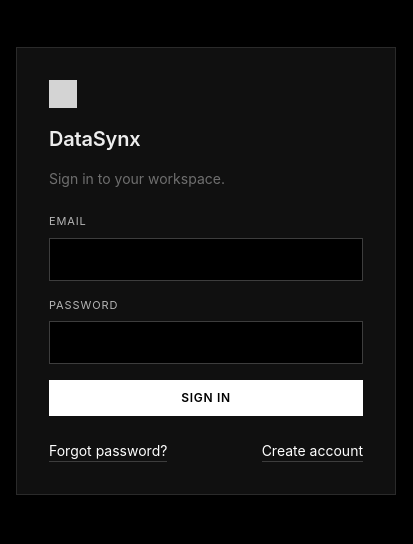
Test: LoginPage › shows the API error message when credentials are rejected
This screenshot has width=413, height=544.
Type "someone@example.com" into the field labelled "Email" at coordinates (206, 259), box [49,238,363,280]
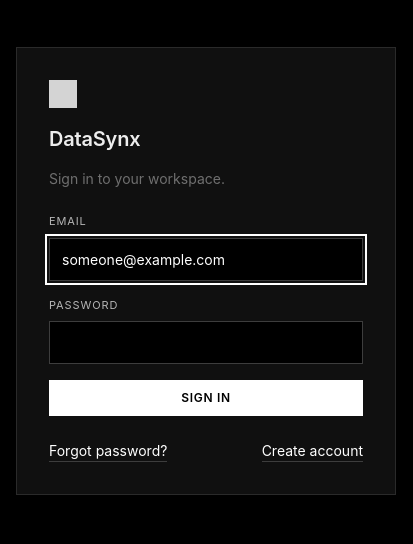
Type "wrong-password" into the password field labelled "Password" at coordinates (206, 342), box [49,321,363,364]
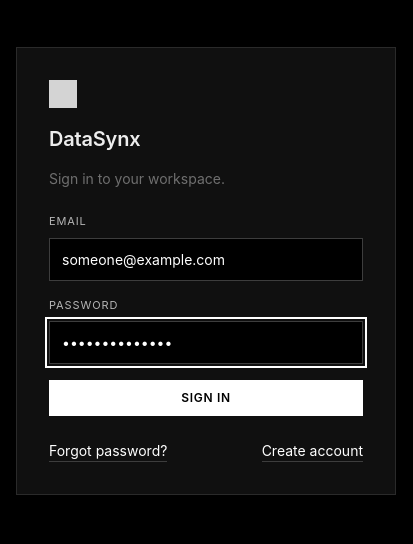
Click the button "Sign In" at coordinates (206, 398), box [49,380,363,416]
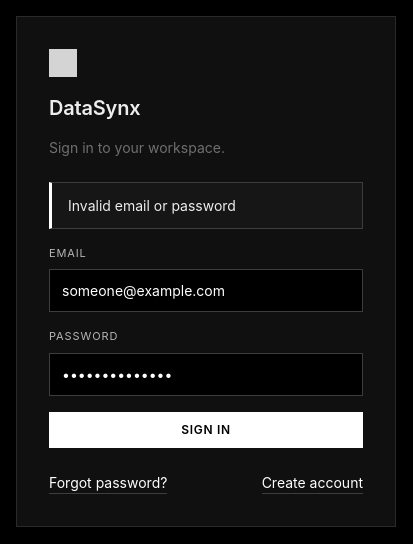
Check: the text "Invalid email or password" is shown, box [49,182,363,228]
